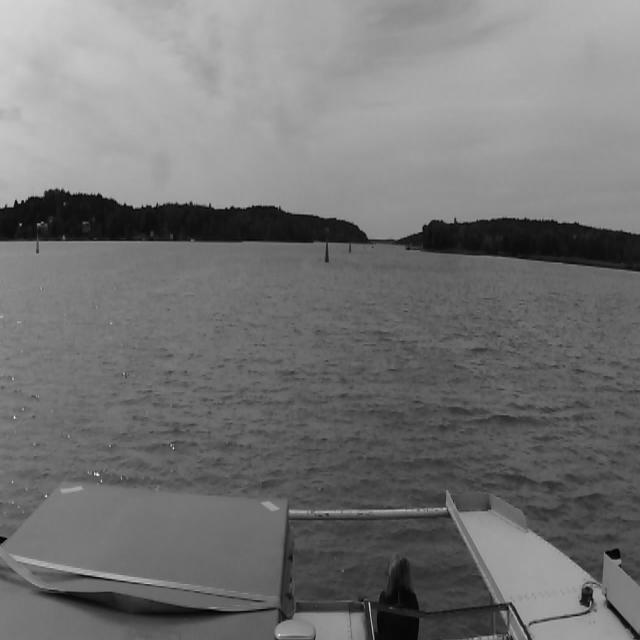buoy: (326, 240, 330, 262)
